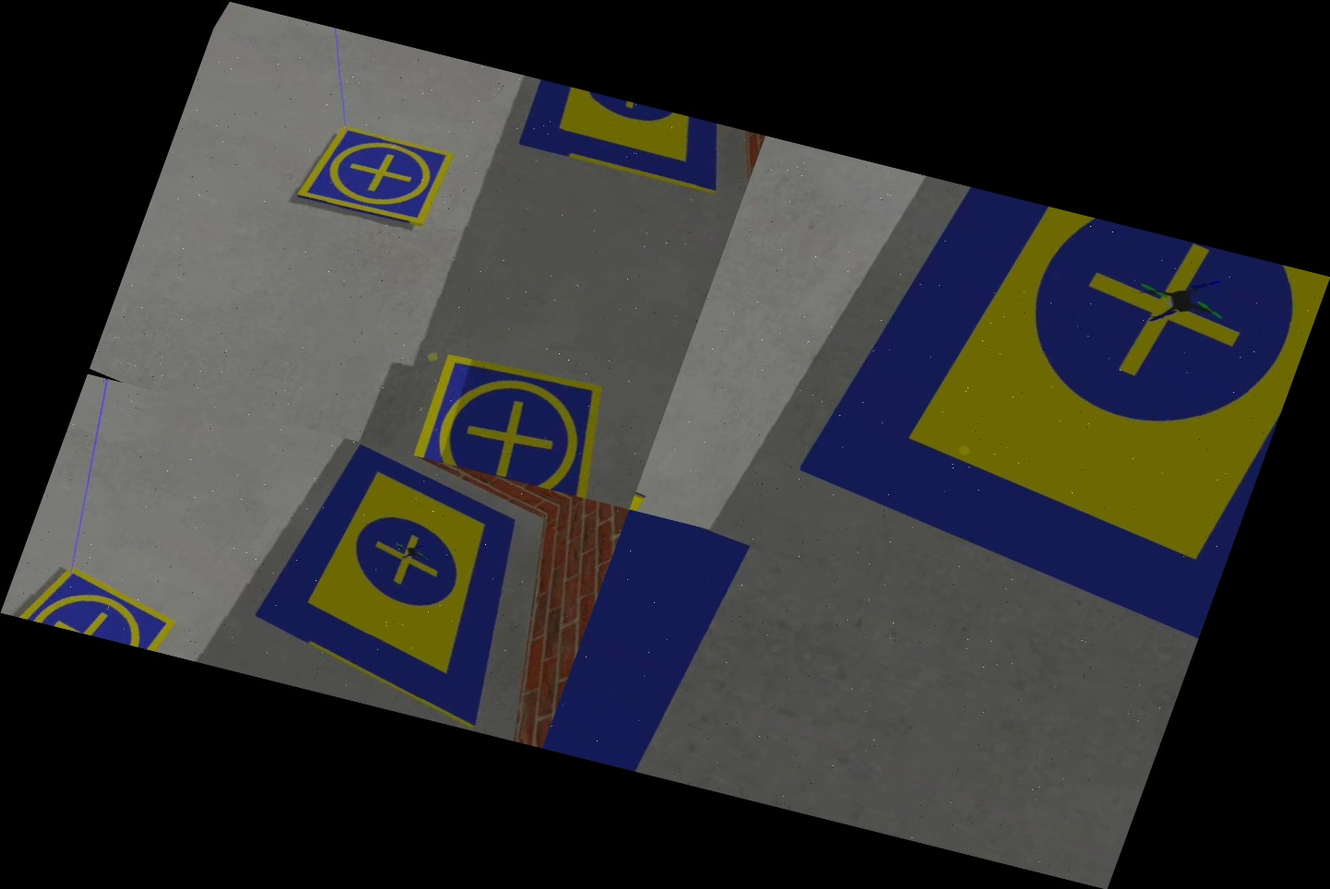large_base: (769, 170, 1329, 642), (228, 431, 605, 741), (542, 509, 799, 790), (476, 72, 759, 226)
small_base: (381, 321, 667, 507), (280, 102, 469, 248), (0, 551, 188, 654)
